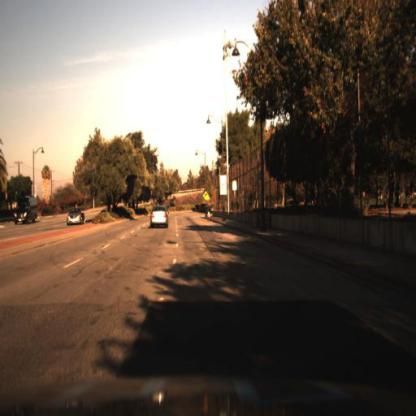car: (13, 193, 38, 225), (147, 202, 171, 229), (65, 207, 86, 225)
